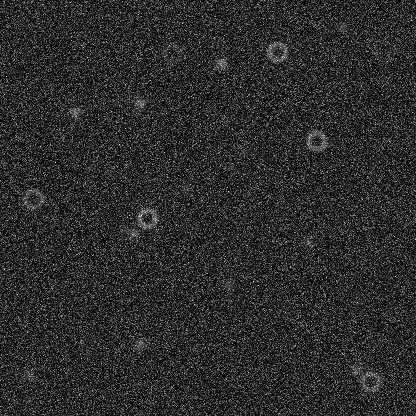Ring: (304, 128, 328, 152), (135, 206, 159, 230), (21, 186, 45, 210), (371, 38, 395, 62), (358, 369, 382, 393), (159, 40, 183, 64), (265, 39, 289, 63)
Spot: (67, 104, 83, 120), (348, 360, 364, 376), (234, 140, 250, 156), (20, 366, 36, 382), (217, 110, 233, 126), (178, 181, 194, 197), (220, 276, 236, 292), (299, 233, 315, 249), (131, 95, 147, 111), (131, 336, 147, 352), (334, 19, 350, 35), (124, 225, 140, 241), (212, 55, 228, 71)
